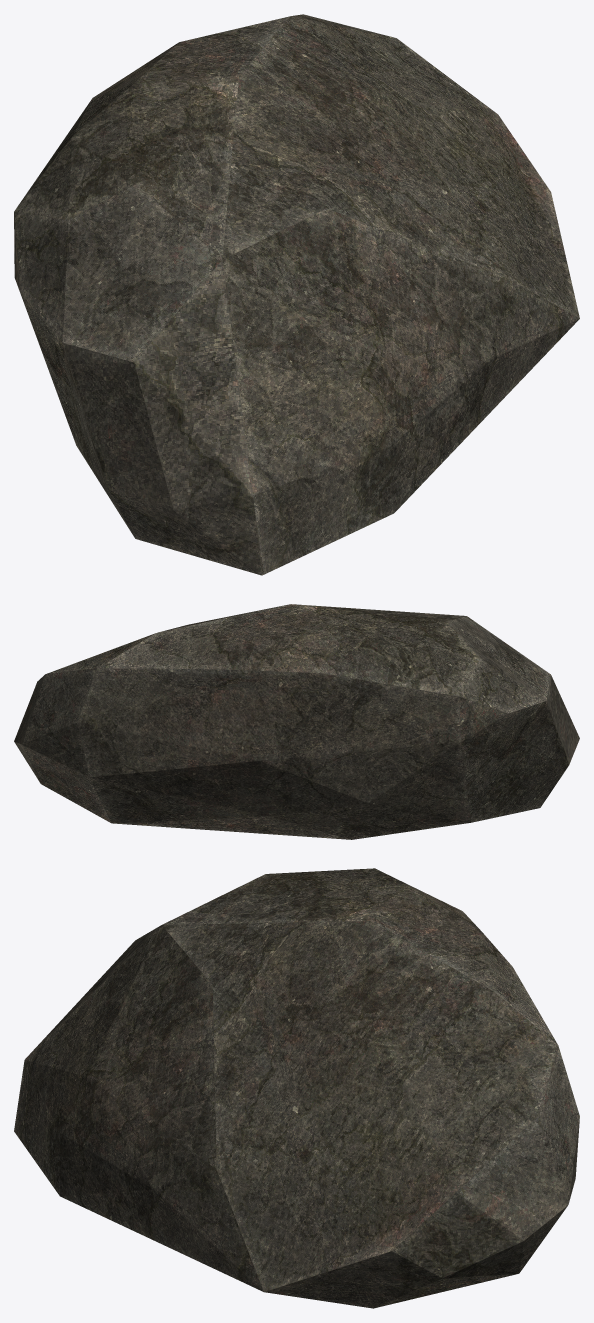
File: stone_2.glb
3 renders of one model, top to bottom at view 1: azimuth 30°, elevation 25°; view 2: azimuth 150°, elevation 25°; view 3: azimuth 270°, elevation 25°, orthographic. The views are drawn at different scales.
Parts seen in each view (by area): view 1: stone_2; view 2: stone_2; view 3: stone_2.
Boxes of the visible parts, x1=… form: stone_2: x1=14, y1=14, x2=579, y2=575; stone_2: x1=14, y1=604, x2=579, y2=839; stone_2: x1=14, y1=868, x2=579, y2=1308.
Bounding box in the file's own units: 3.62 × 2.01 × 3.3.
Materials: 1 (1 with a texture image).
